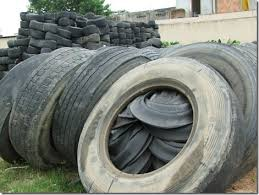tire: (73, 56, 246, 195), (54, 45, 160, 179), (10, 46, 110, 173)
